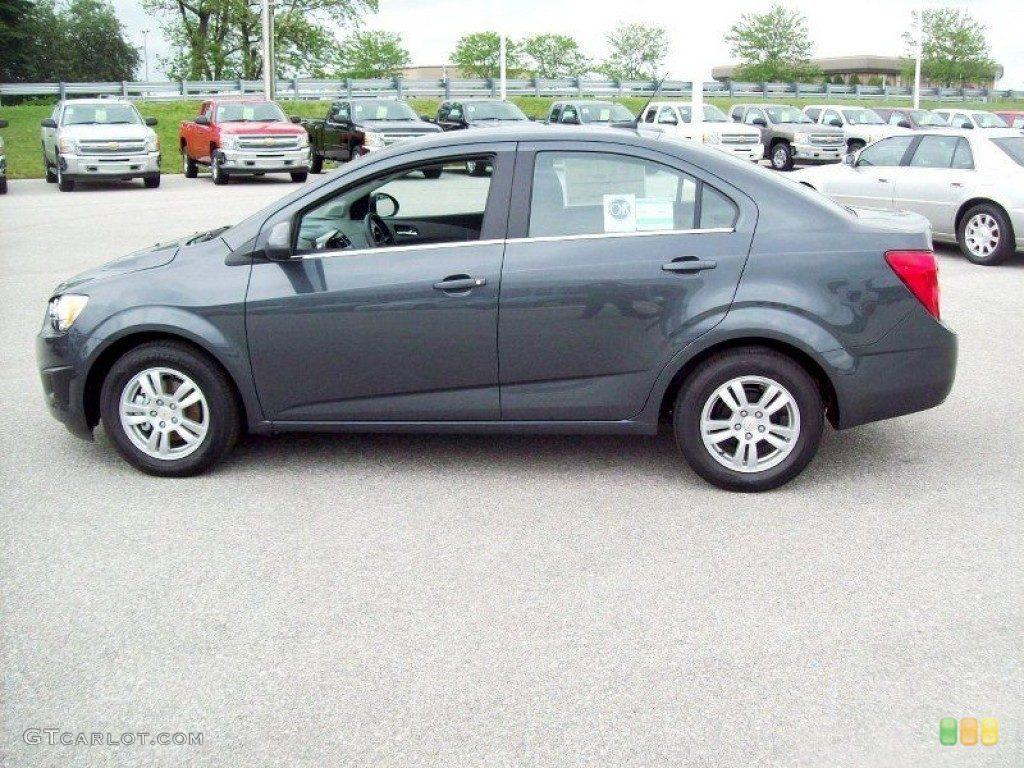Sedan: (34, 120, 959, 491), (177, 94, 312, 184), (39, 95, 162, 190)
